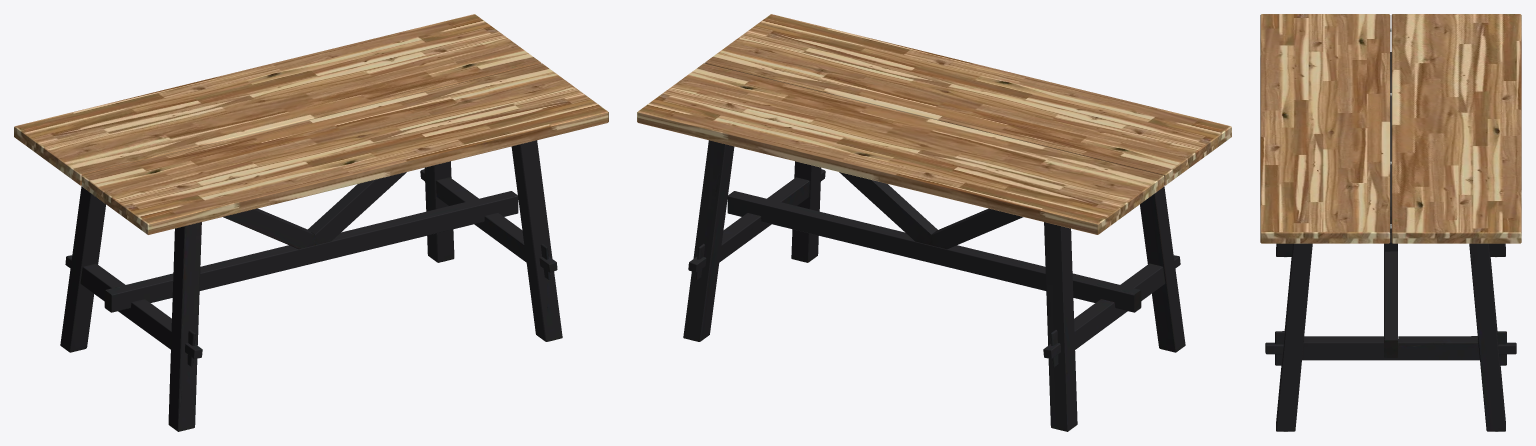
Rendered from skogsta-mesa-acacia.glb.
3 renders of one model, left to right at view 1: azimuth 30°, elevation 25°; view 2: azimuth 150°, elevation 25°; view 3: azimuth 270°, elevation 25°, orthographic. The views are drawn at different scales.
Visible parts, largest first — view 1: ASY_ART_00452643_S01_NV01; view 2: ASY_ART_00452643_S01_NV01; view 3: ASY_ART_00452643_S01_NV01.
Part boxes in pixels (box(x1,y1,x2,y2)): ASY_ART_00452643_S01_NV01: box(14, 14, 608, 431); ASY_ART_00452643_S01_NV01: box(637, 14, 1231, 431); ASY_ART_00452643_S01_NV01: box(1260, 14, 1521, 431).
Bounding box in the file's own units: 1.6 × 0.7433 × 0.8052.
1 material, 1 textured.
